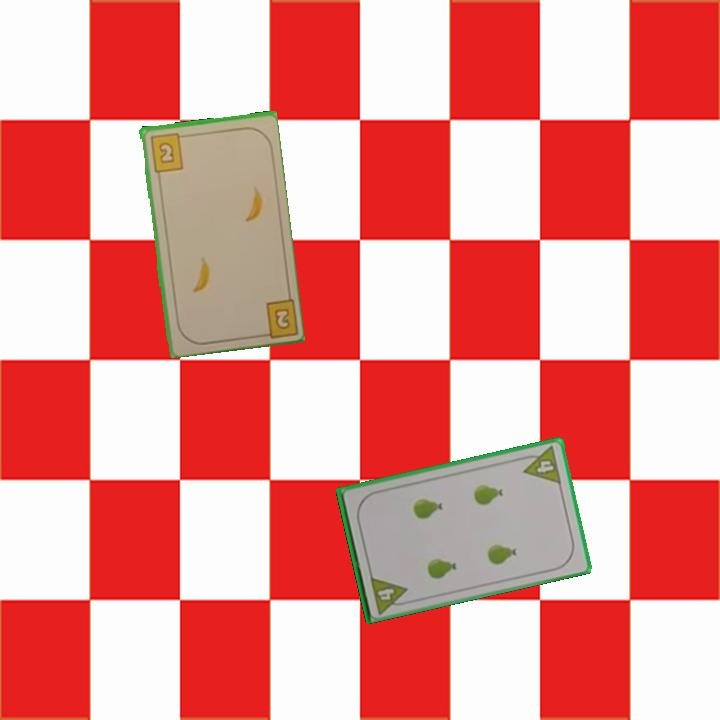2b: (254, 293, 299, 340), (146, 129, 188, 174)
4p: (517, 443, 564, 487), (366, 572, 412, 616)
